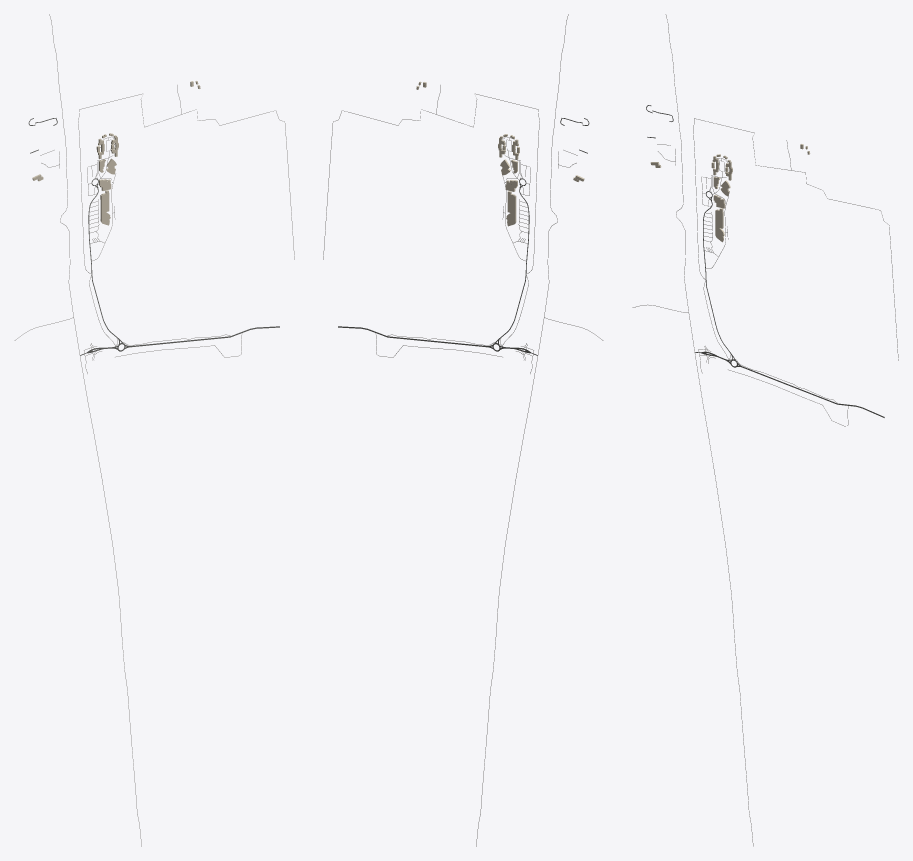
The model's file is historic-palestine-14_37_3557_3311.glb.
The picture shows the model from 3 angles, left to right: view 1: azimuth 30°, elevation 25°; view 2: azimuth 150°, elevation 25°; view 3: azimuth 330°, elevation 25°; orthographic projection. The views are drawn at different scales.
Parts seen in each view (by area): view 1: Road .058; view 2: Road .058; view 3: Road .058.
Boxes of the visible parts, <box> form: Road .058: <box>49,14,141,846</box>; Road .058: <box>476,14,568,846</box>; Road .058: <box>665,14,753,846</box>.
Bounding box in the file's own units: 1148 × 3344 × 8.7.
